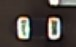COMP: (10, 13, 66, 44)
GAP: (46, 1, 61, 27)
